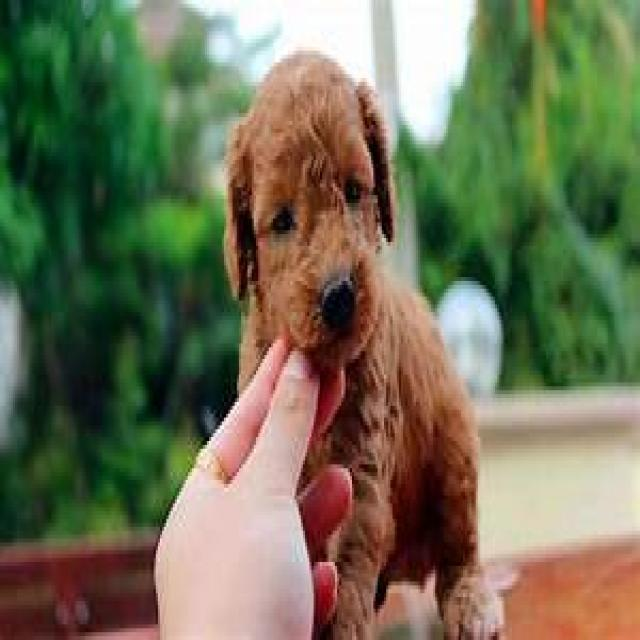dog: (226, 39, 495, 640)
